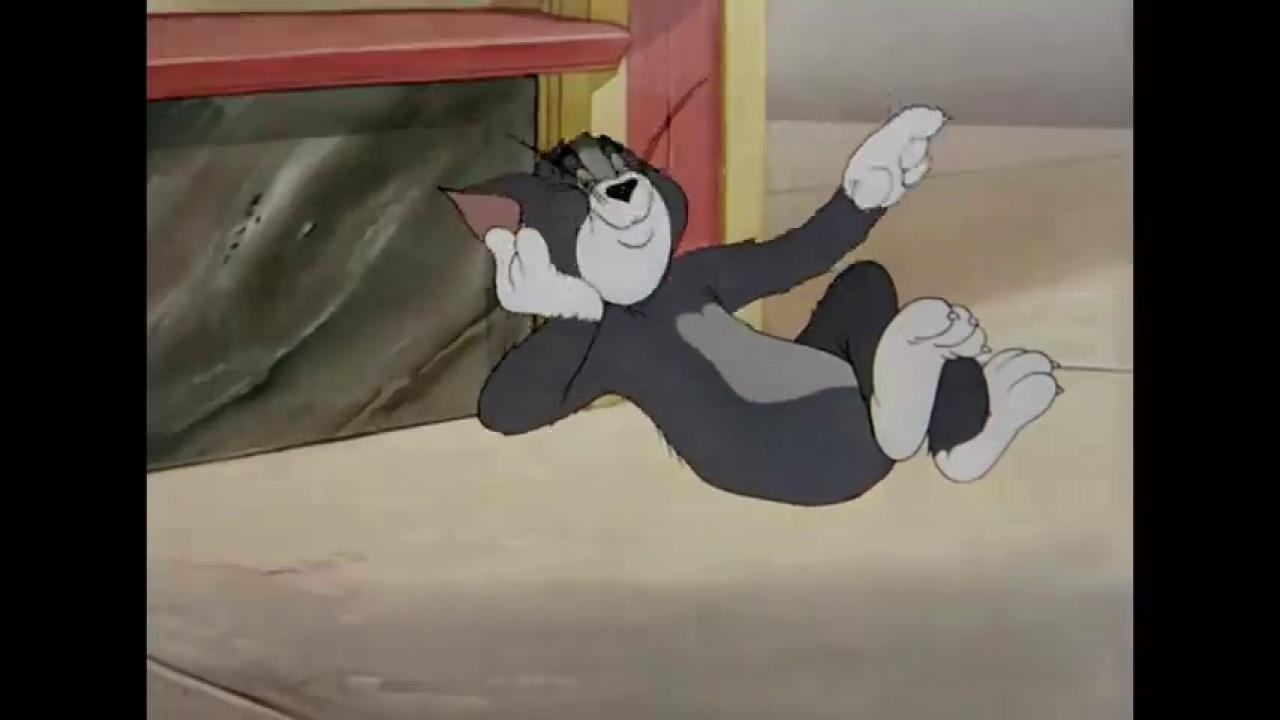Tom: (437, 103, 1066, 507)
